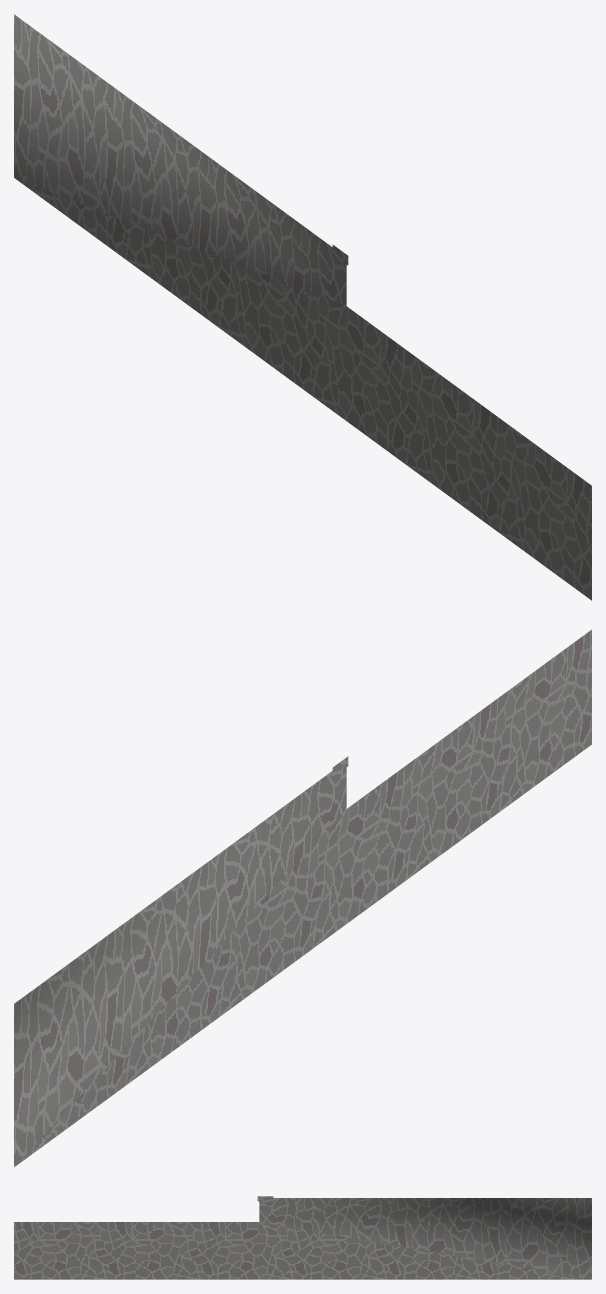
File: kd_stage_135c43_4_13_bounded.glb
3 renders of one model, top to bottom at view 1: azimuth 30°, elevation 25°; view 2: azimuth 150°, elevation 25°; view 3: azimuth 270°, elevation 25°, orthographic. The views are drawn at different scales.
Visible parts, largest first — view 1: kd_stage_135c43_4_13_bounded; view 2: kd_stage_135c43_4_13_bounded; view 3: kd_stage_135c43_4_13_bounded.
Boxes of the visible parts, box(x1,y1,x2,y2) form: kd_stage_135c43_4_13_bounded: box(14, 14, 591, 600); kd_stage_135c43_4_13_bounded: box(14, 629, 591, 1167); kd_stage_135c43_4_13_bounded: box(14, 1196, 591, 1279).
Size of the model in its own units: 9.54e-06 by 0.2745 by 1.73.
1 material, 1 textured.
